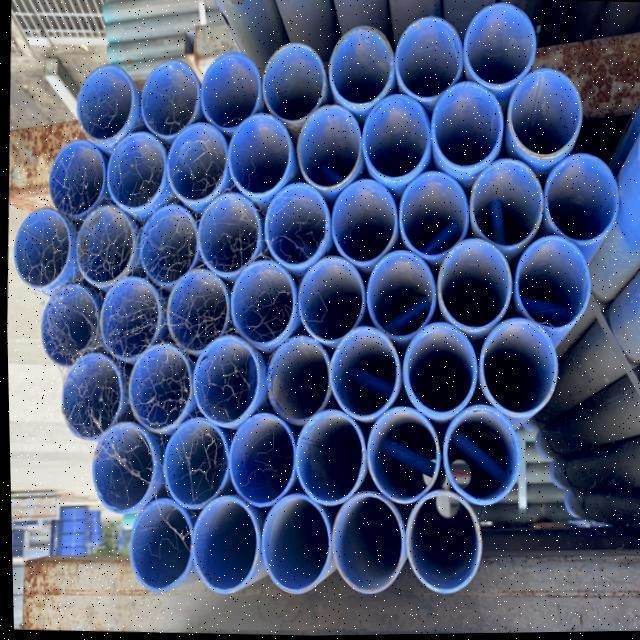pipe: (327, 491, 410, 593), (402, 491, 483, 595), (442, 409, 522, 511), (477, 318, 558, 418), (514, 238, 598, 333), (253, 496, 328, 597), (118, 496, 197, 590), (436, 243, 514, 336), (189, 493, 259, 595), (293, 411, 364, 511), (387, 173, 468, 260), (543, 156, 618, 249), (400, 326, 475, 418), (365, 410, 436, 507), (225, 414, 296, 510), (186, 336, 260, 427), (469, 162, 542, 252), (326, 329, 396, 422), (432, 86, 504, 176), (166, 269, 235, 362), (86, 425, 153, 519), (463, 7, 536, 93), (365, 254, 437, 341), (511, 74, 583, 161), (263, 186, 334, 272), (297, 258, 366, 346), (226, 264, 297, 348), (264, 336, 330, 426), (332, 180, 398, 269), (124, 344, 189, 434), (158, 424, 224, 512), (361, 98, 430, 182), (58, 352, 121, 442), (394, 19, 464, 100), (296, 108, 362, 193), (227, 114, 291, 201), (329, 25, 396, 106), (163, 124, 226, 209), (260, 44, 326, 123), (71, 205, 133, 289), (100, 279, 161, 364), (197, 194, 260, 276), (105, 129, 166, 211), (201, 52, 262, 134), (13, 206, 70, 293), (136, 206, 196, 288), (138, 62, 199, 142), (38, 285, 96, 368), (46, 140, 102, 223), (77, 62, 136, 140)
